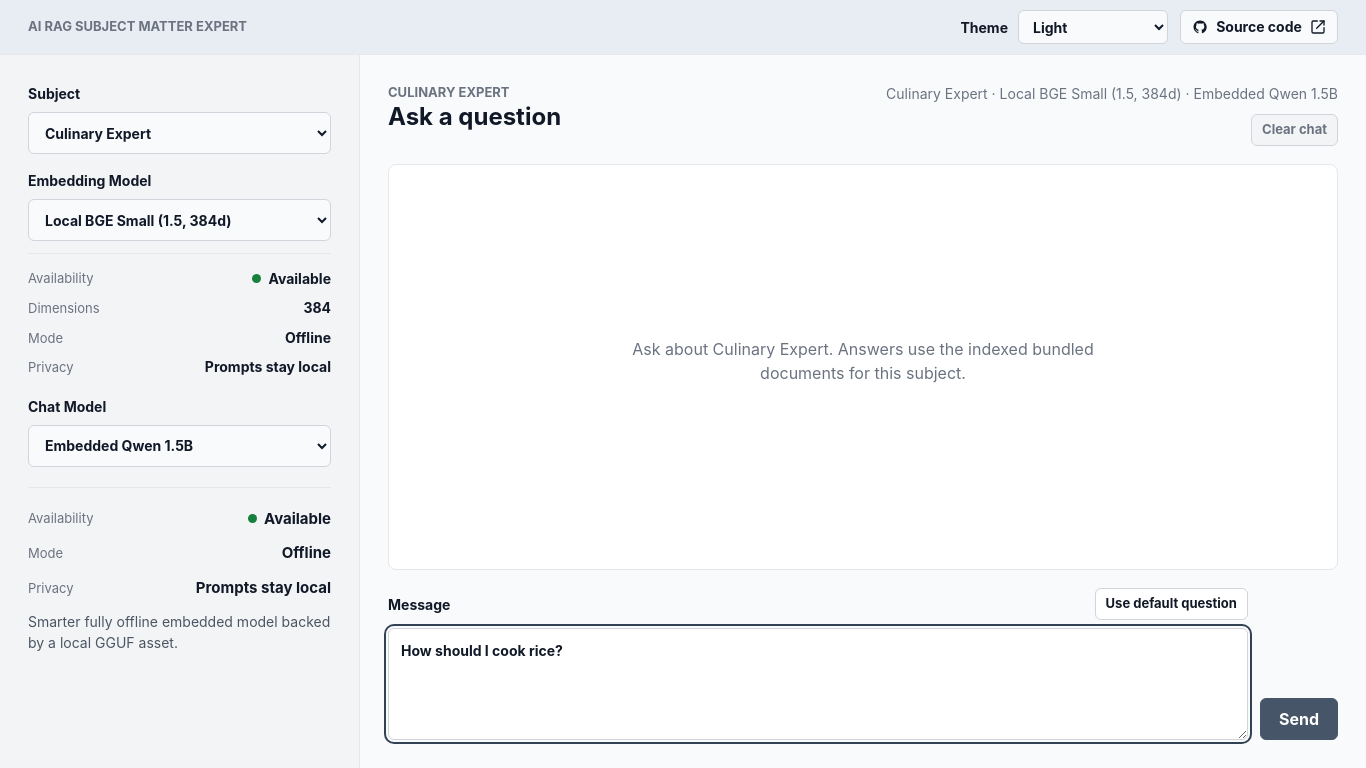
Test case: App › restores selected subject question on request
Clear the text box labelled "Message" at [818, 684], box [388, 628, 1248, 740]
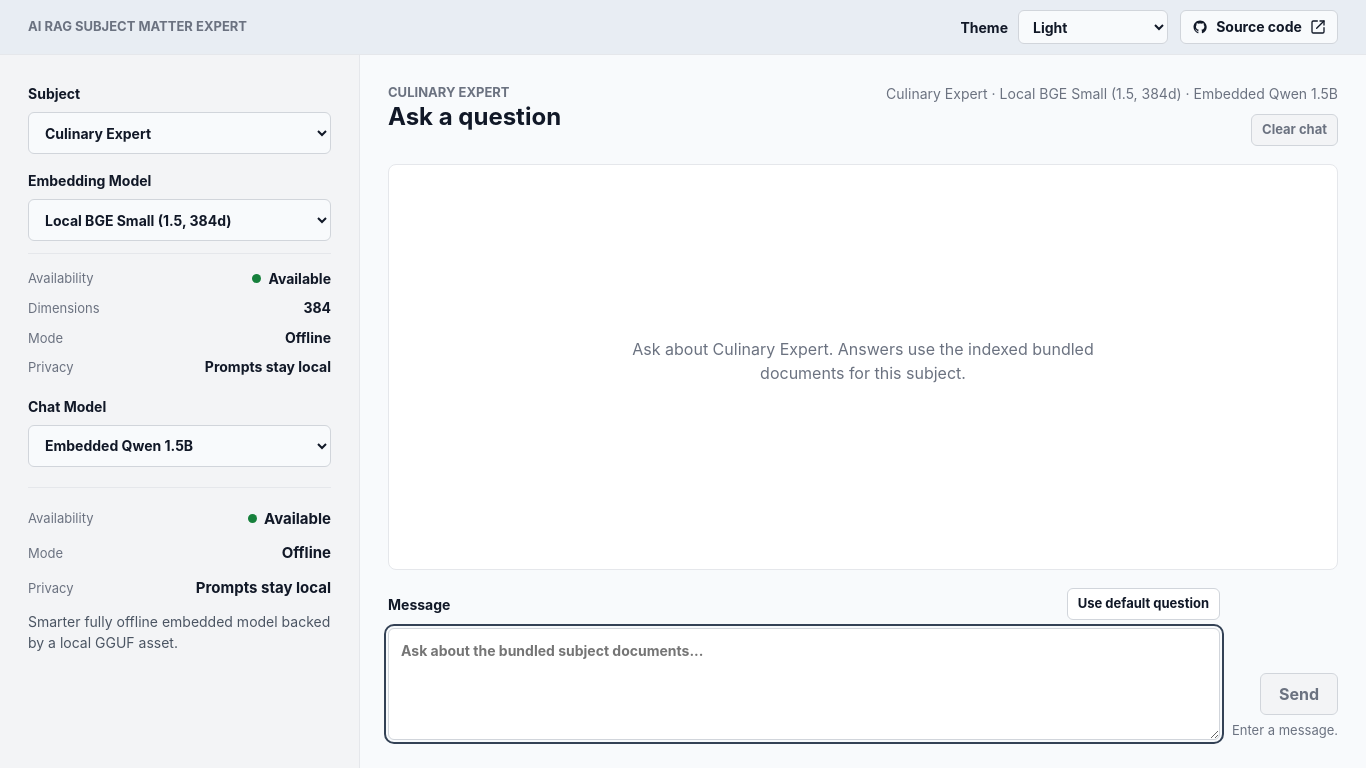
Type "Custom question" into the text box labelled "Message" at [804, 684], box [388, 628, 1220, 740]
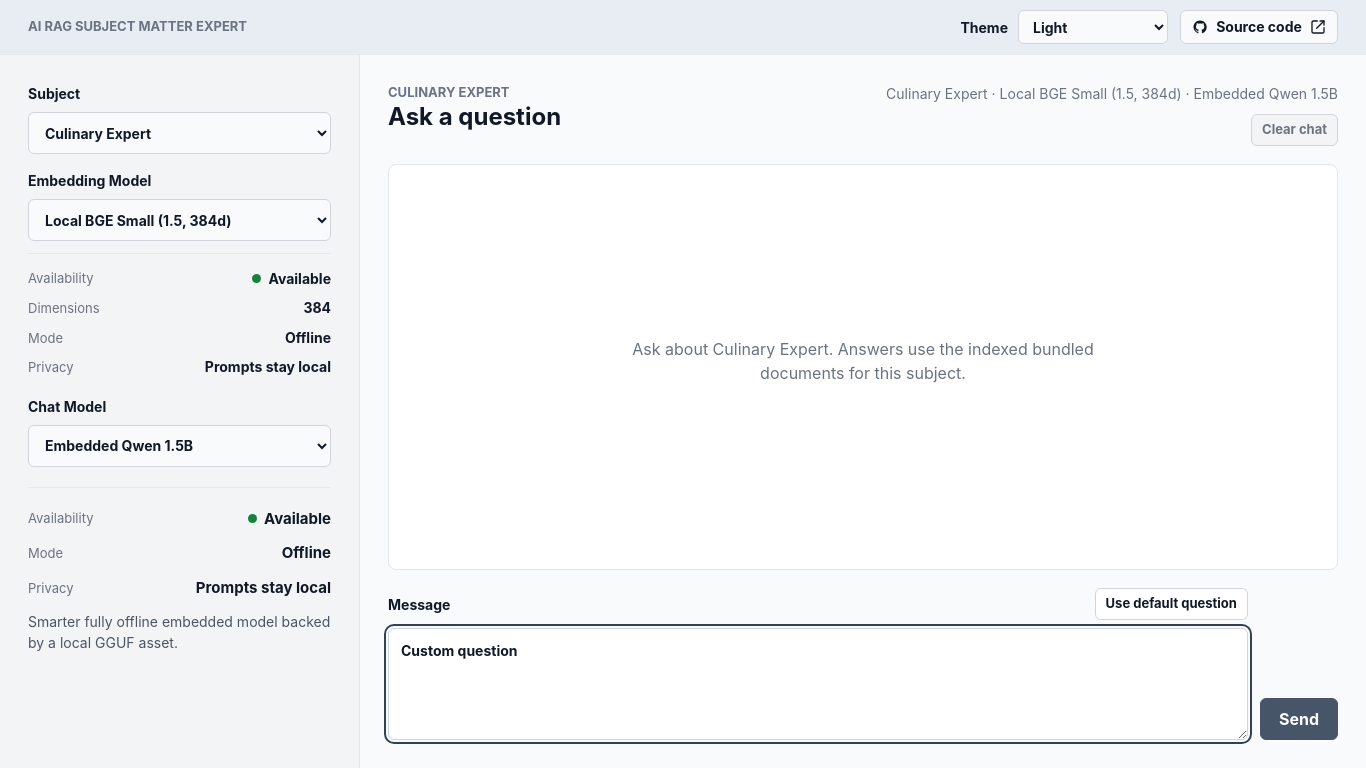
Click the button "Use default question" at [1171, 604], box [1095, 588, 1248, 620]
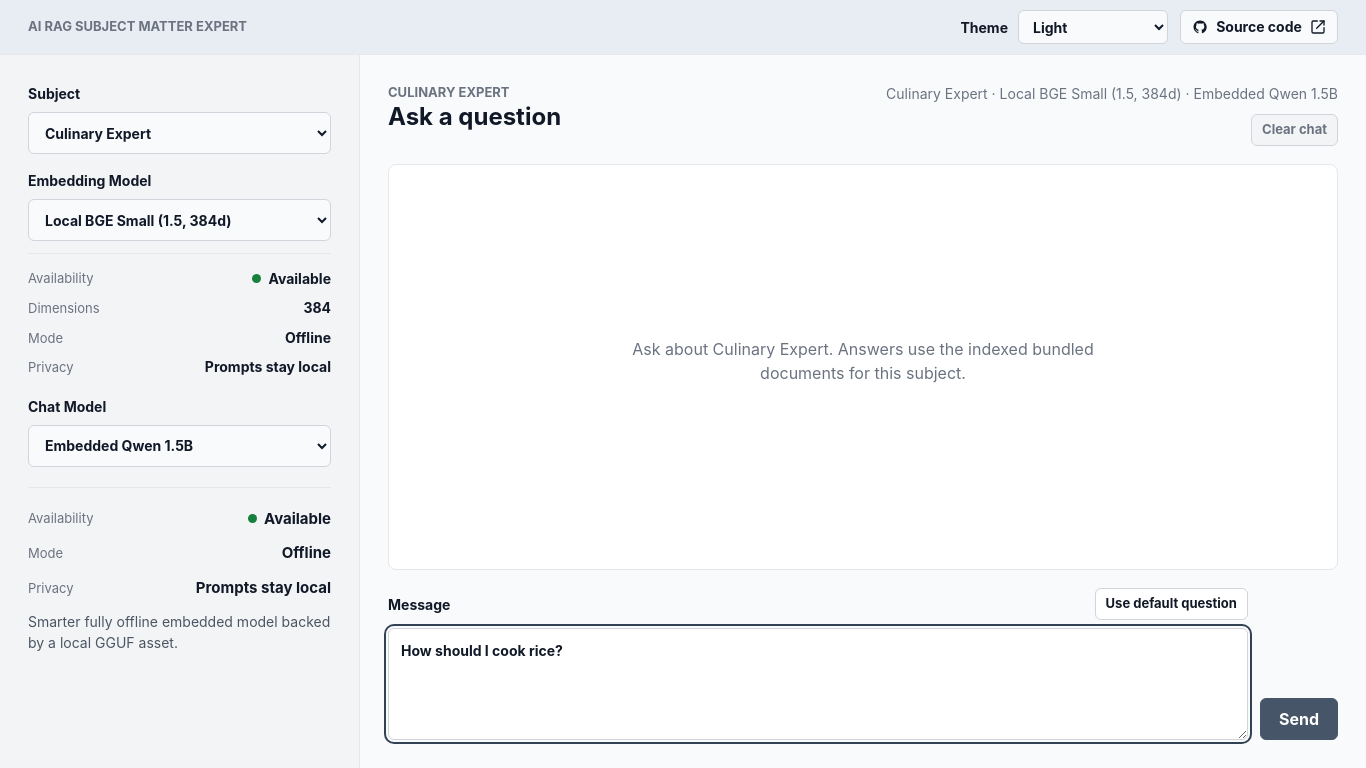
Now the text box labelled "Message" holds "How should I cook rice?", box [388, 628, 1248, 740]
